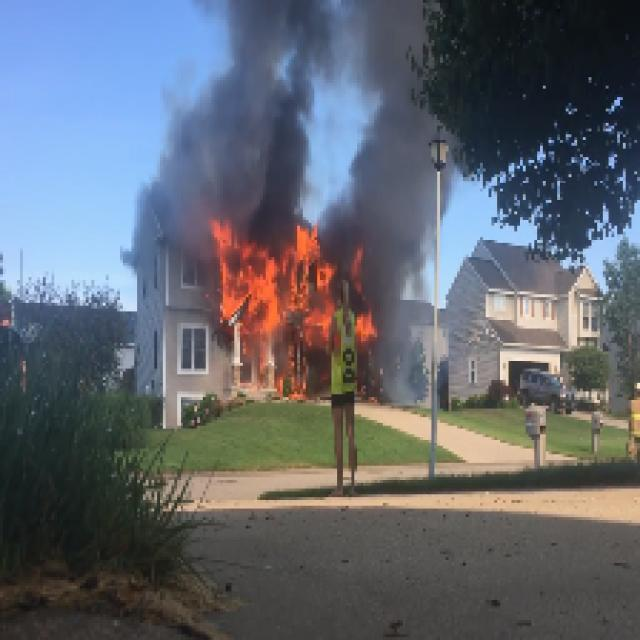fire: (213, 246, 368, 398)
smoke: (173, 7, 307, 209), (352, 9, 438, 227)
